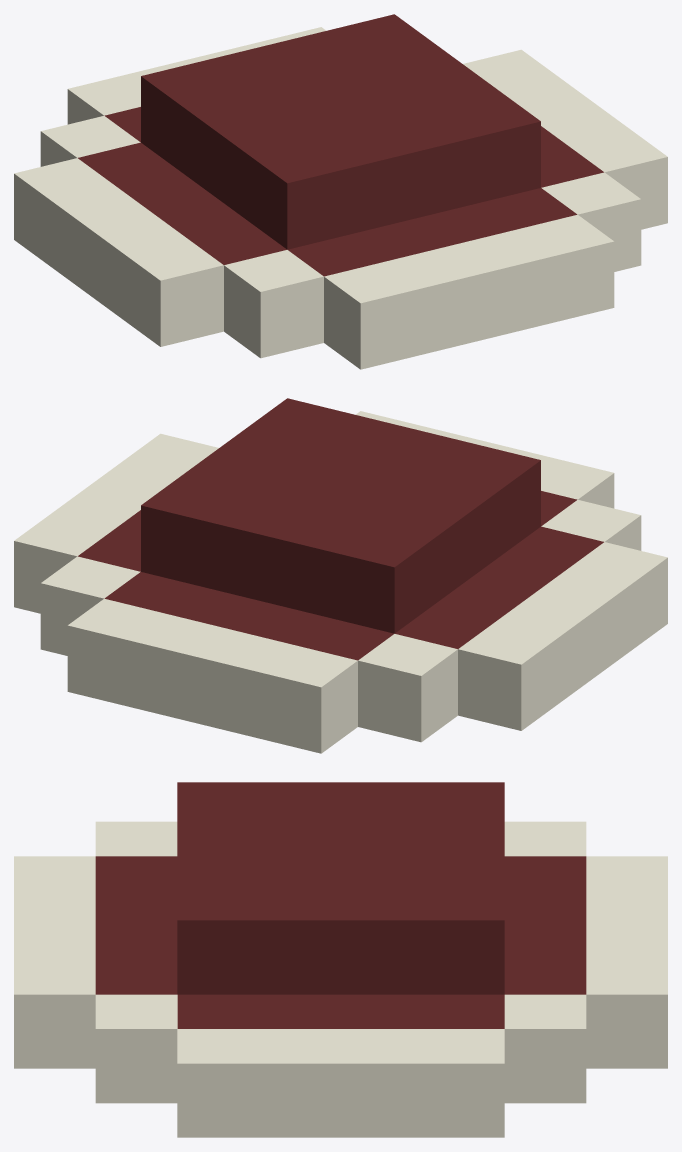
The model's file is char-261-helm_lgt_2d_du_color.obj.
3 views of the same model, one above another, from view 1: azimuth 30°, elevation 25°; view 2: azimuth 150°, elevation 25°; view 3: azimuth 270°, elevation 25° (orthographic). The views are drawn at different scales.
Parts seen in each view (by area): view 1: helm_lgt_2d_du_color; view 2: helm_lgt_2d_du_color; view 3: helm_lgt_2d_du_color.
Boxes of the visible parts, box(x1,y1,x2,y2) form: helm_lgt_2d_du_color: box(14, 14, 667, 369); helm_lgt_2d_du_color: box(14, 398, 667, 753); helm_lgt_2d_du_color: box(14, 782, 667, 1137).
Bounding box in the file's own units: 0.8 × 0.2 × 0.8.
1 material, 1 textured.
